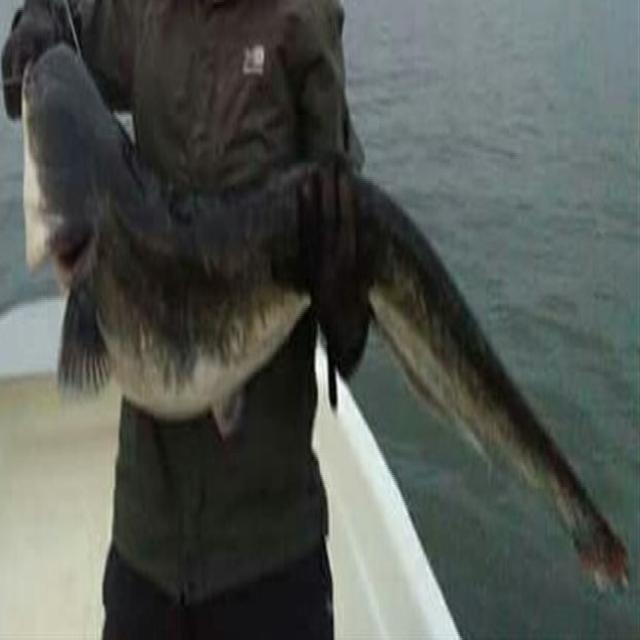Catfish: (17, 26, 640, 640)
